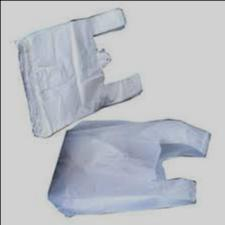Plastic: (42, 117, 211, 222), (11, 6, 140, 139)
